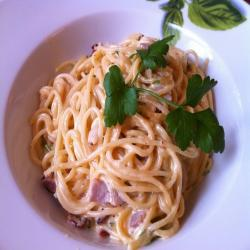carbonara: (27, 39, 226, 249)
